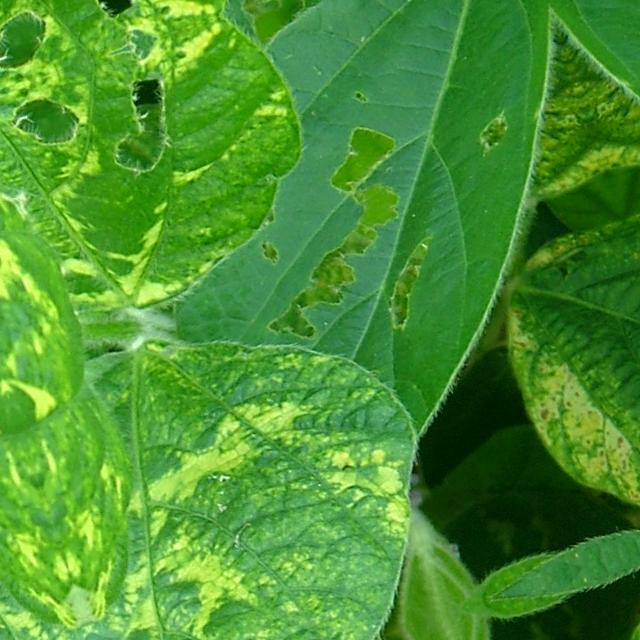Tomato leaf mosaic virus: (9, 282, 460, 640), (0, 0, 348, 359)
